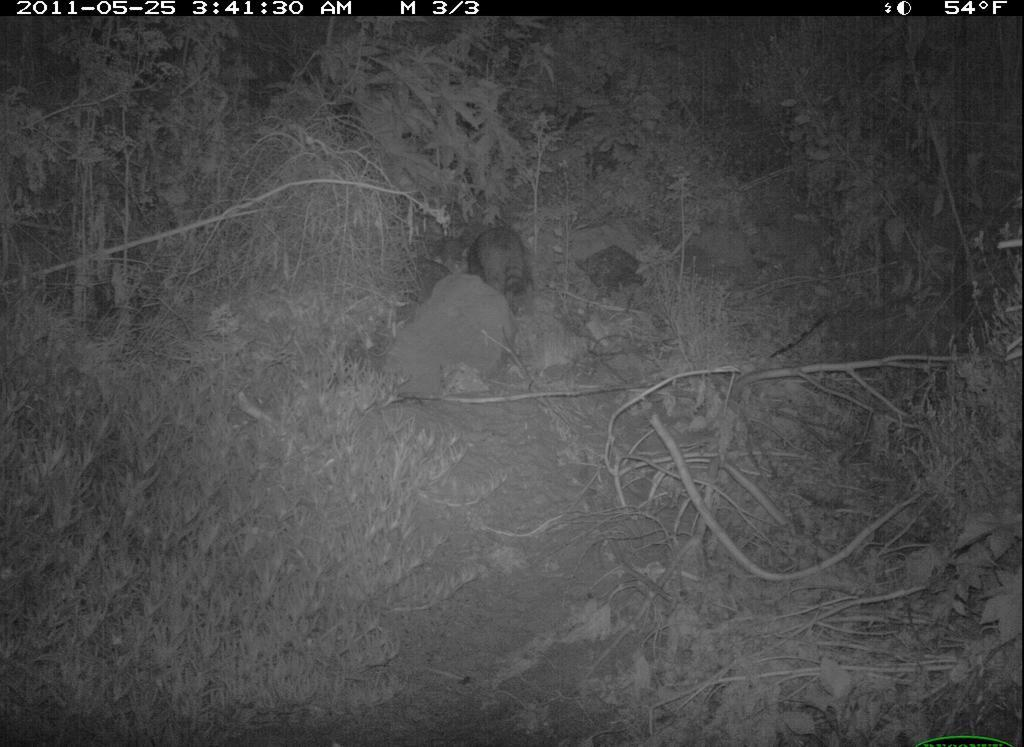raccoon: (450, 216, 551, 303)
